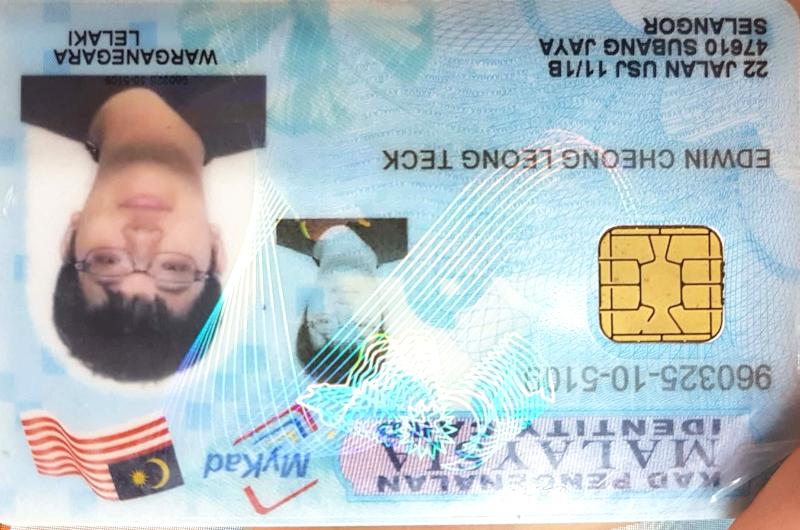hologram: (410, 172, 552, 322)
